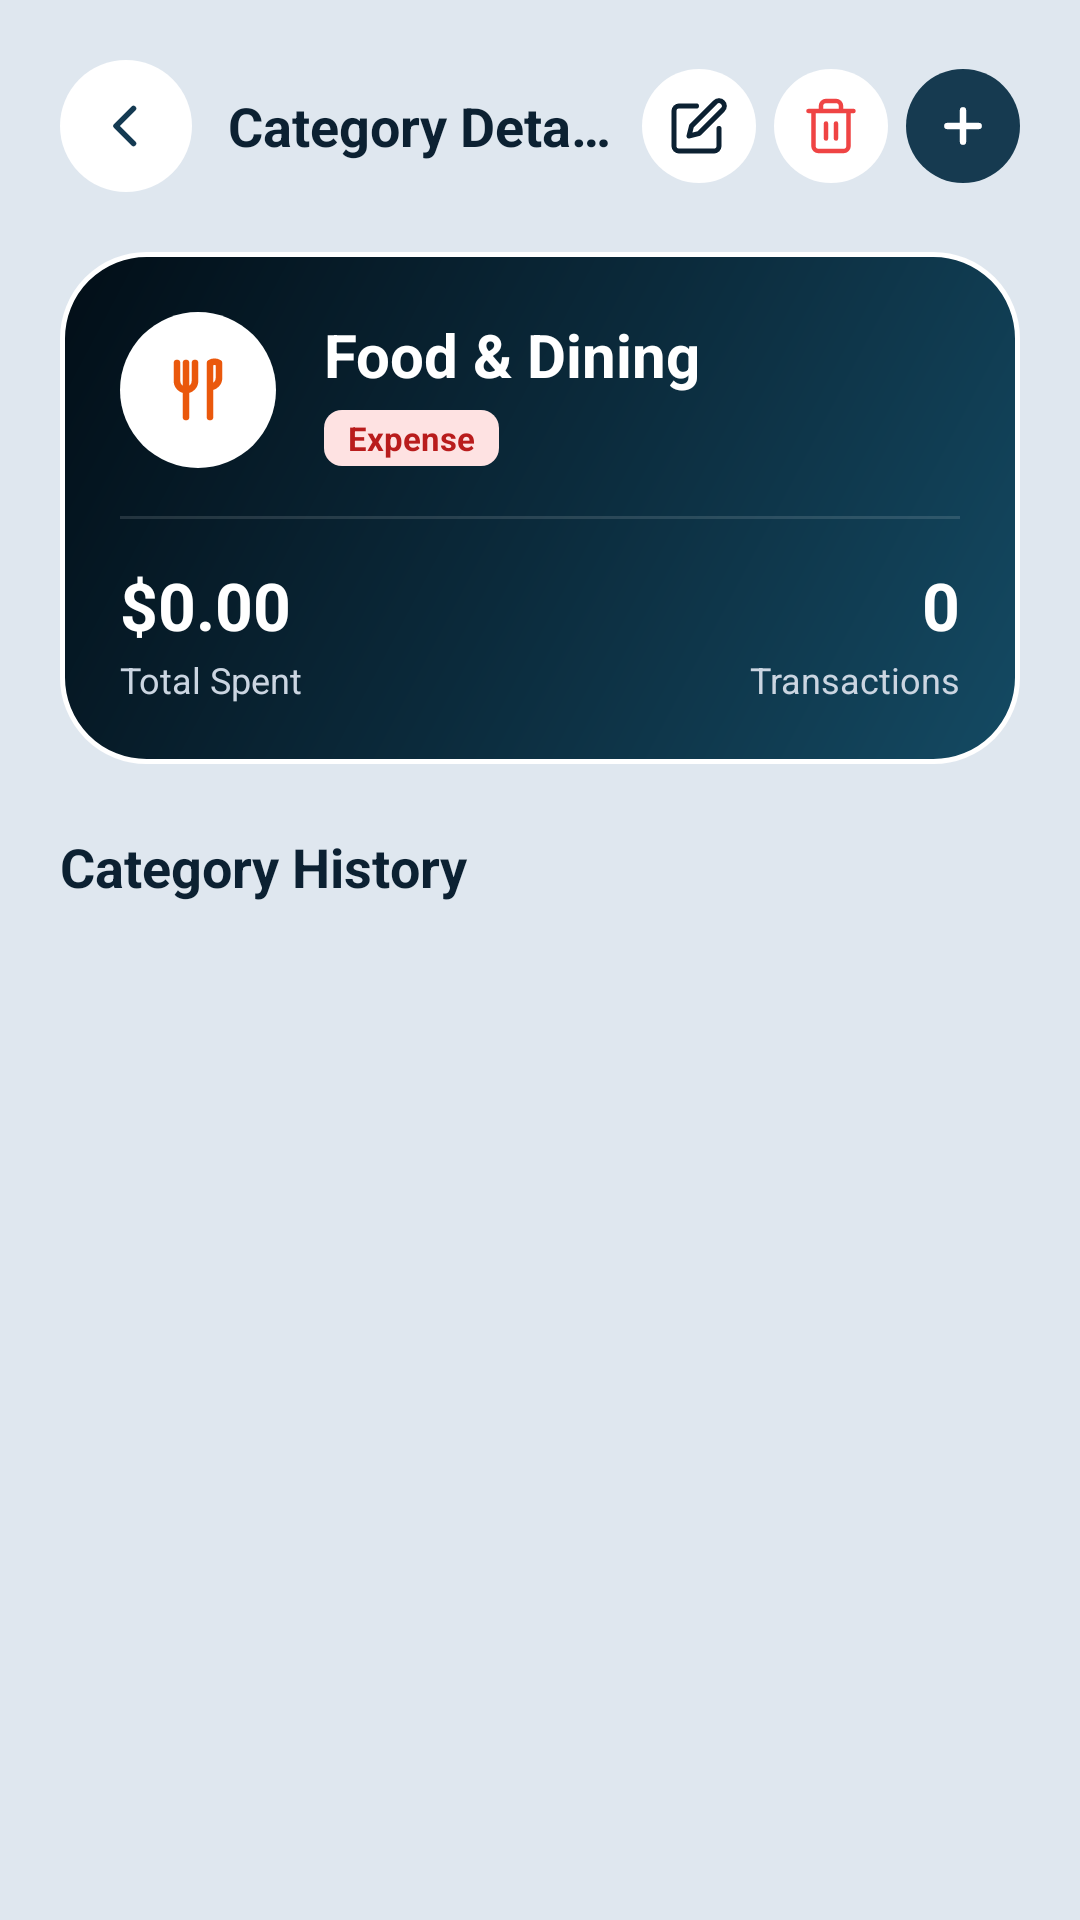

Screen size 1080 × 1920. Icon name, then its box in pixels as (x1, y1, x2, y2):
Add Transaction: (906, 69, 1020, 183)
Back: (60, 60, 192, 192)
category food: (120, 312, 276, 468)
Delete Category: (774, 69, 888, 183)
Edit Category: (642, 69, 756, 183)
